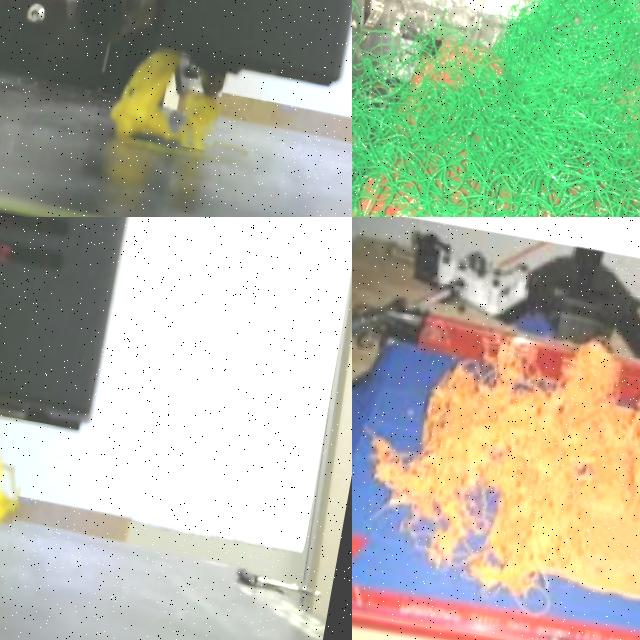spaghetti: (366, 326, 640, 624), (352, 0, 640, 217), (110, 52, 217, 149)
